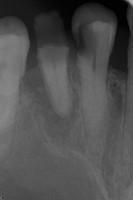Dental Caries: (24, 65, 80, 146)
